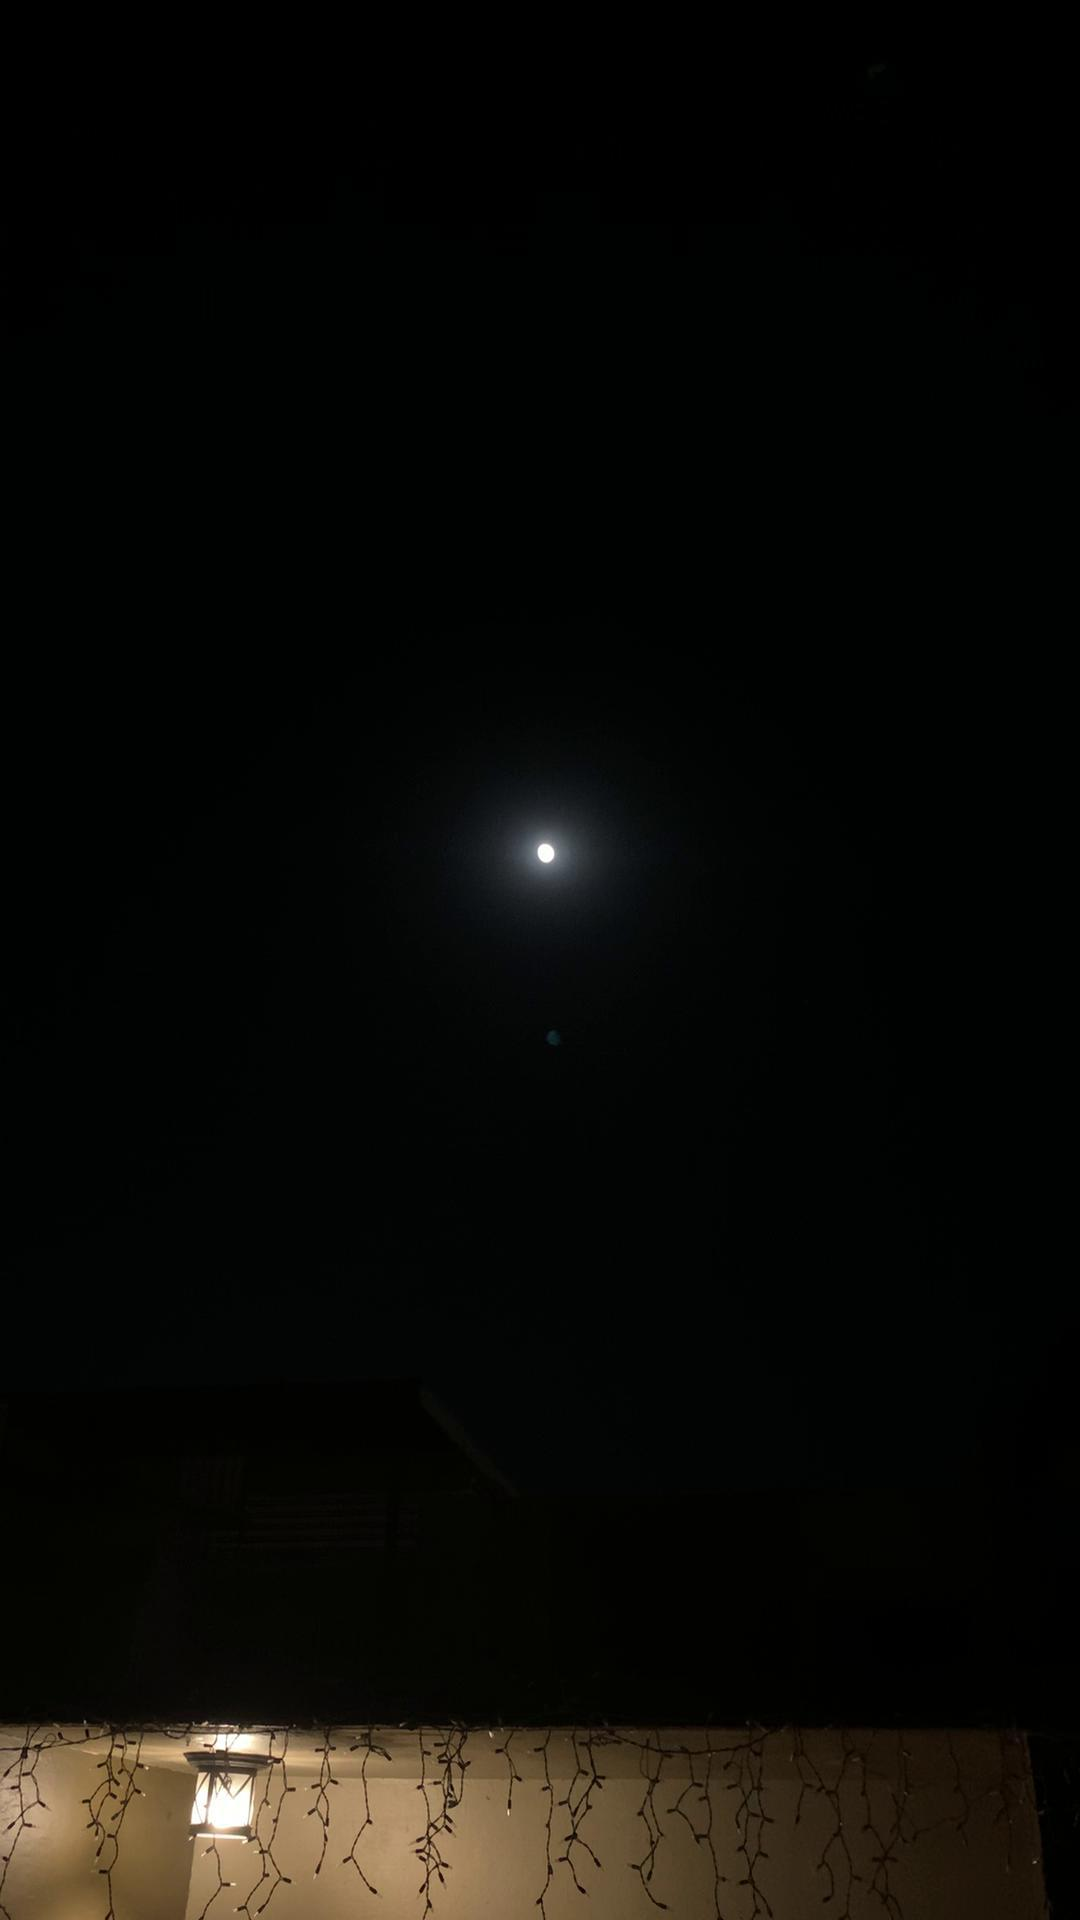moon: (516, 818, 603, 913)
